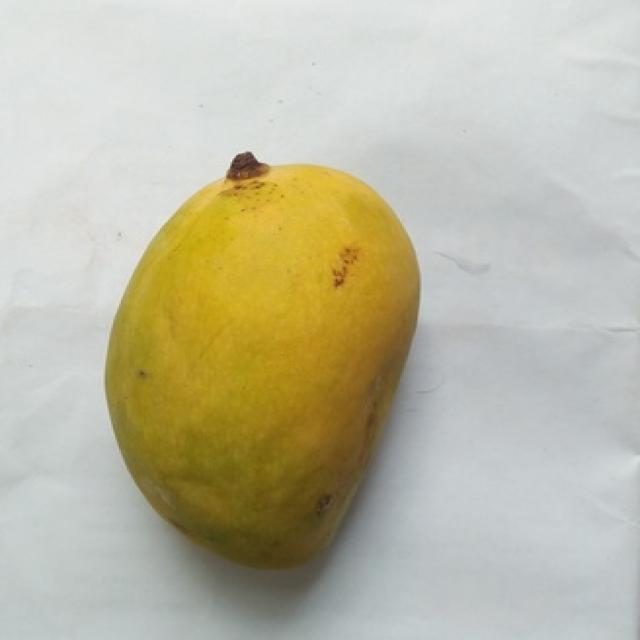Mango: (105, 156, 418, 567)
